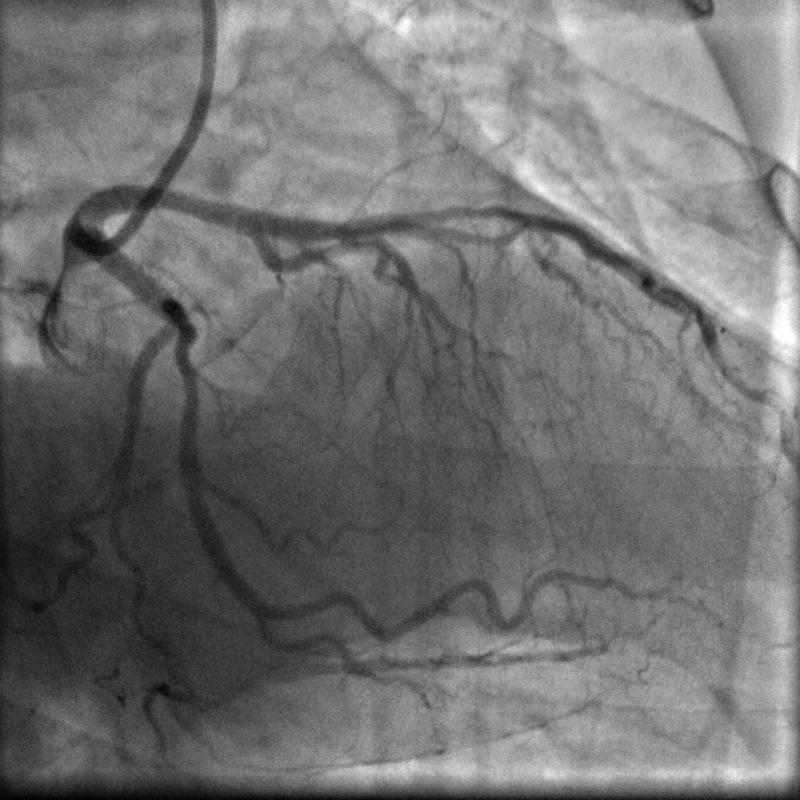Stenosis: (165, 312, 201, 389)
